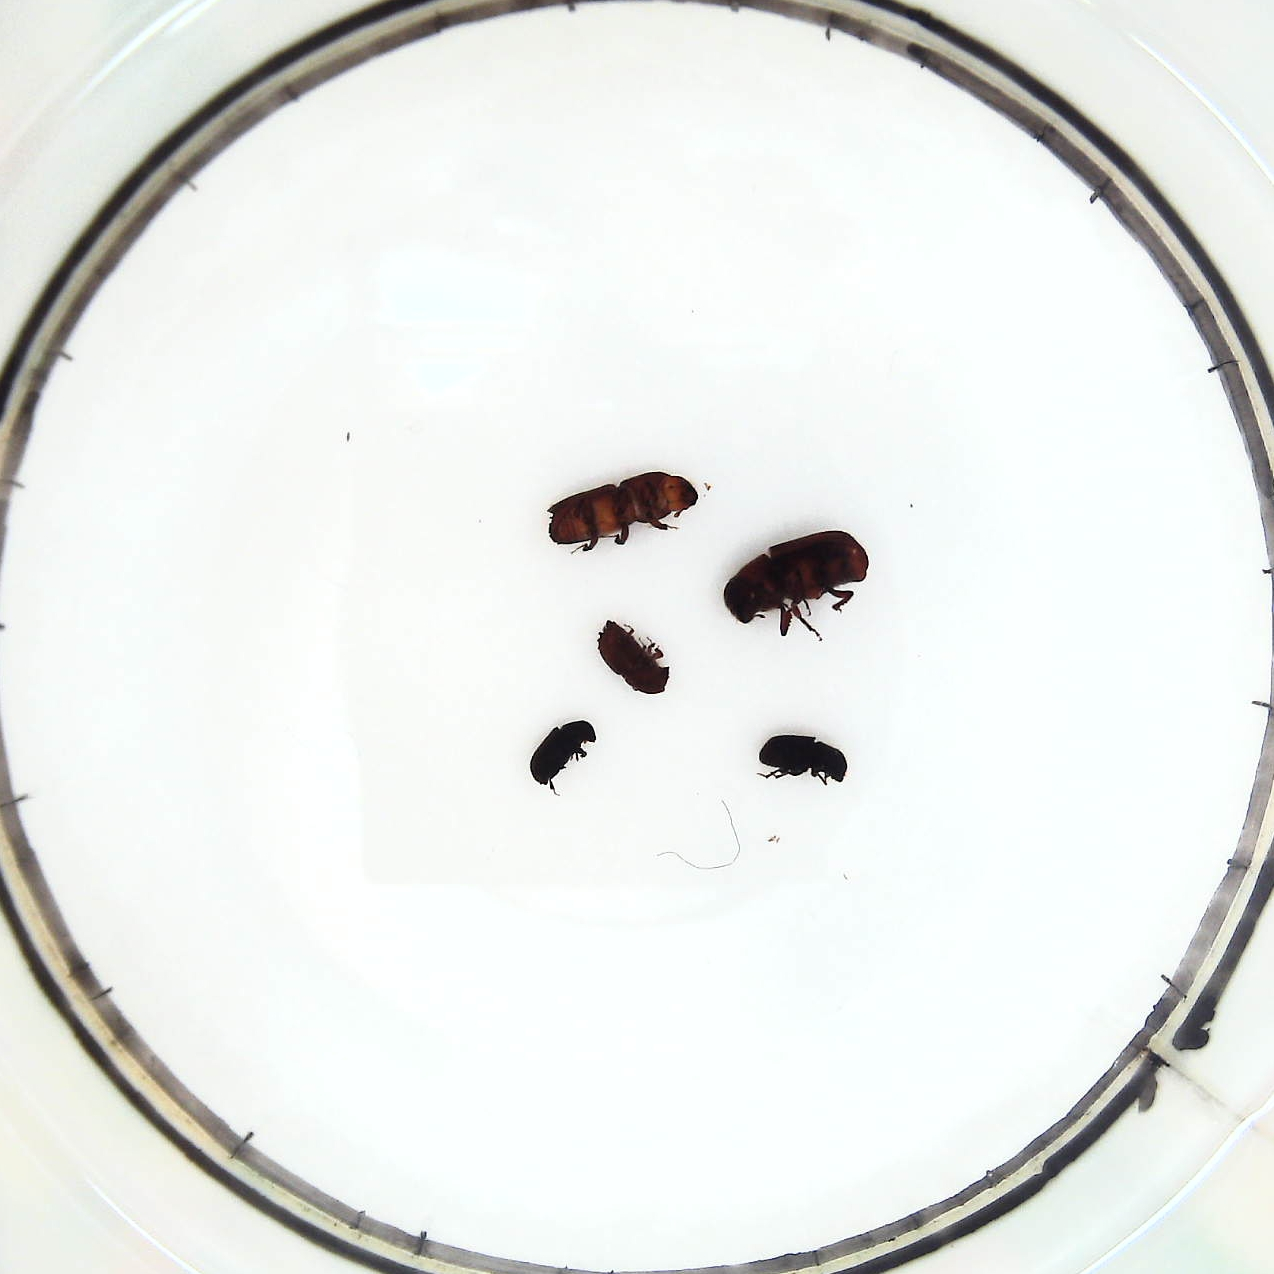Boerner: (544, 469, 700, 556)
Leconte: (722, 527, 875, 644)
armandi: (752, 727, 850, 793)
coleoptera: (524, 710, 597, 793)
linnaeus: (591, 612, 673, 703)
